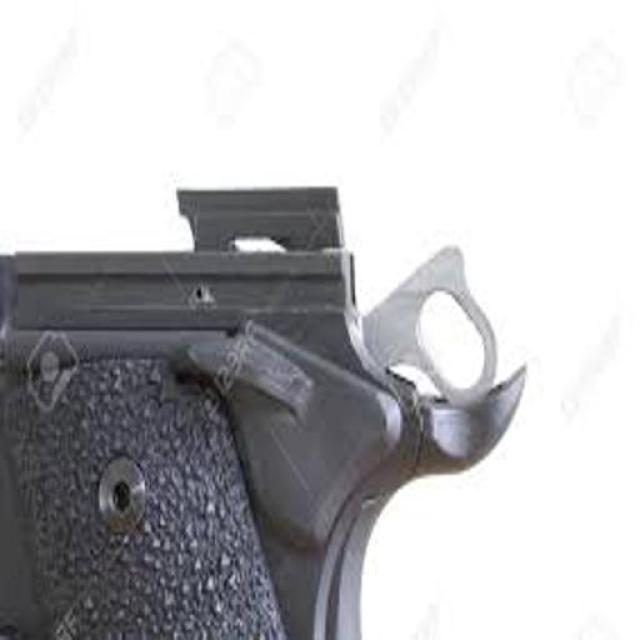pistol: (1, 146, 537, 636)
